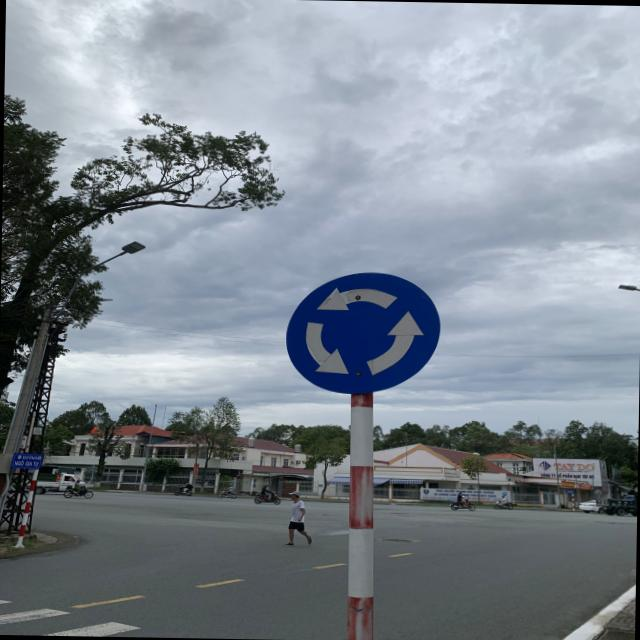Xe_Bus: (280, 268, 443, 397)
